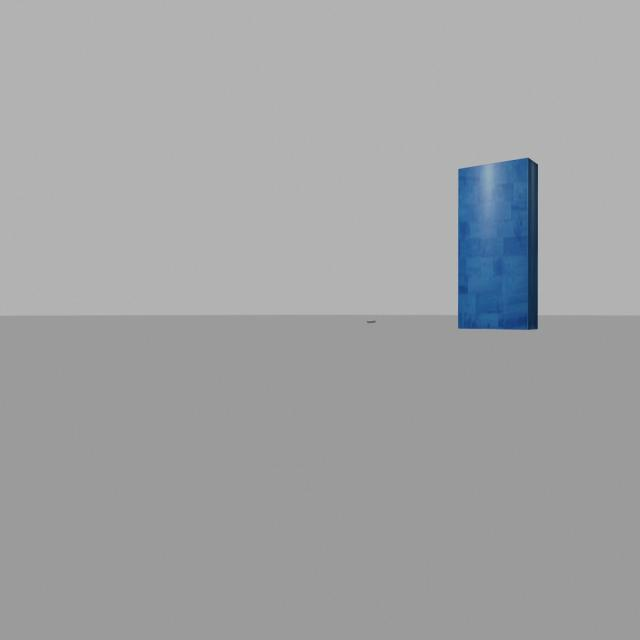bowl: (362, 316, 381, 329)
shelf: (452, 152, 544, 343)
